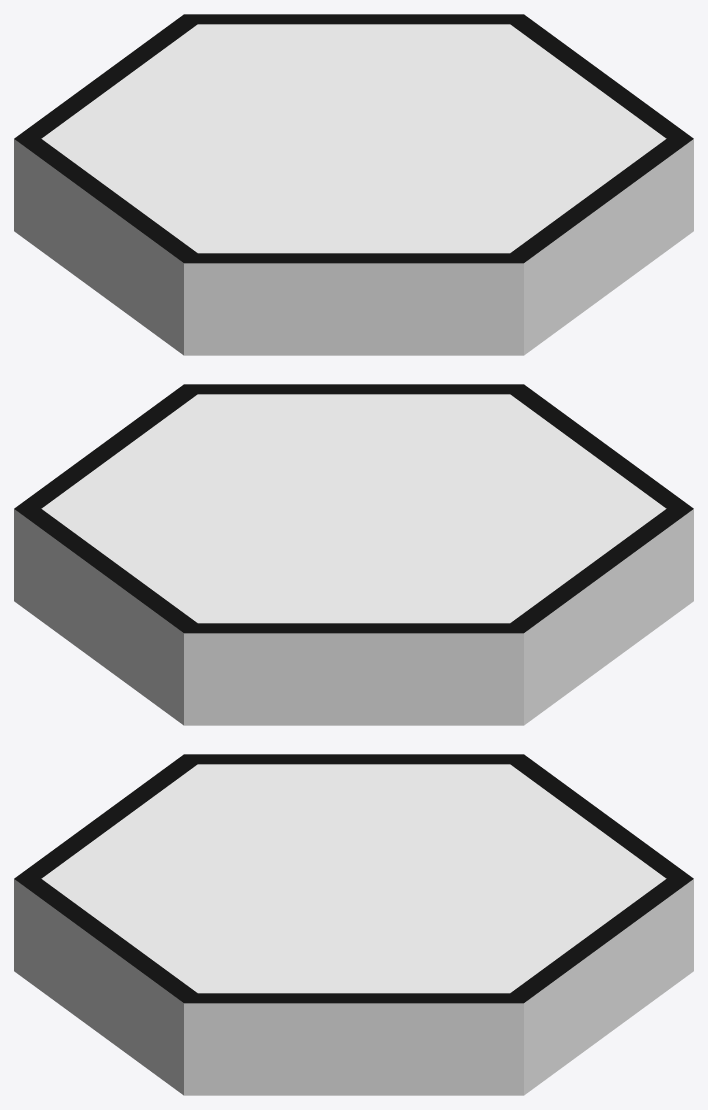
Rendered from _default_tile.glb.
3 views of the same model, one above another, from view 1: azimuth 30°, elevation 25°; view 2: azimuth 150°, elevation 25°; view 3: azimuth 270°, elevation 25° (orthographic).
Parts seen in each view (by area): view 1: DefaultTile; view 2: DefaultTile; view 3: DefaultTile.
Part boxes in pixels (<box>): DefaultTile: <box>14,14,693,355</box>; DefaultTile: <box>14,384,693,725</box>; DefaultTile: <box>14,754,693,1095</box>.
Bounding box in the file's own units: 1.73 × 0.3 × 2.
1 material, 1 textured.
